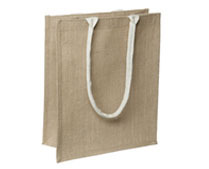jutebag: (40, 8, 160, 164)
